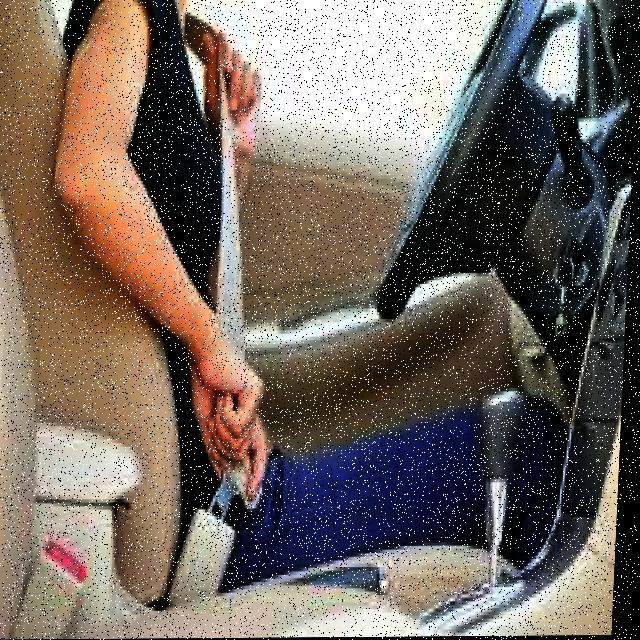seatbelt: (160, 19, 282, 544)
